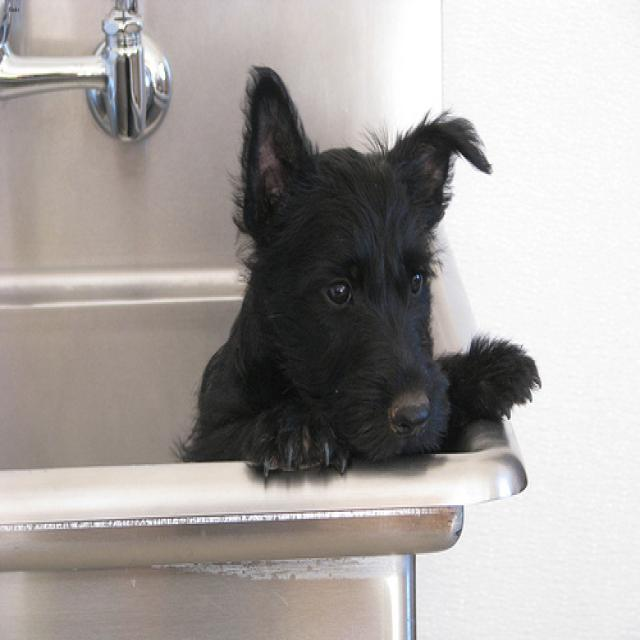dog-scottish_terrier: (168, 56, 547, 486)
